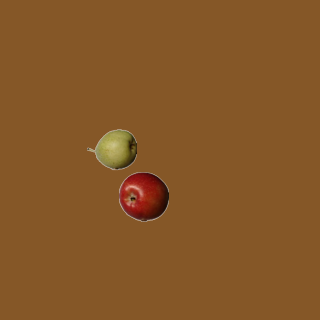Apple Braeburn: (118, 171, 168, 221)
Pear: (86, 124, 136, 174)
